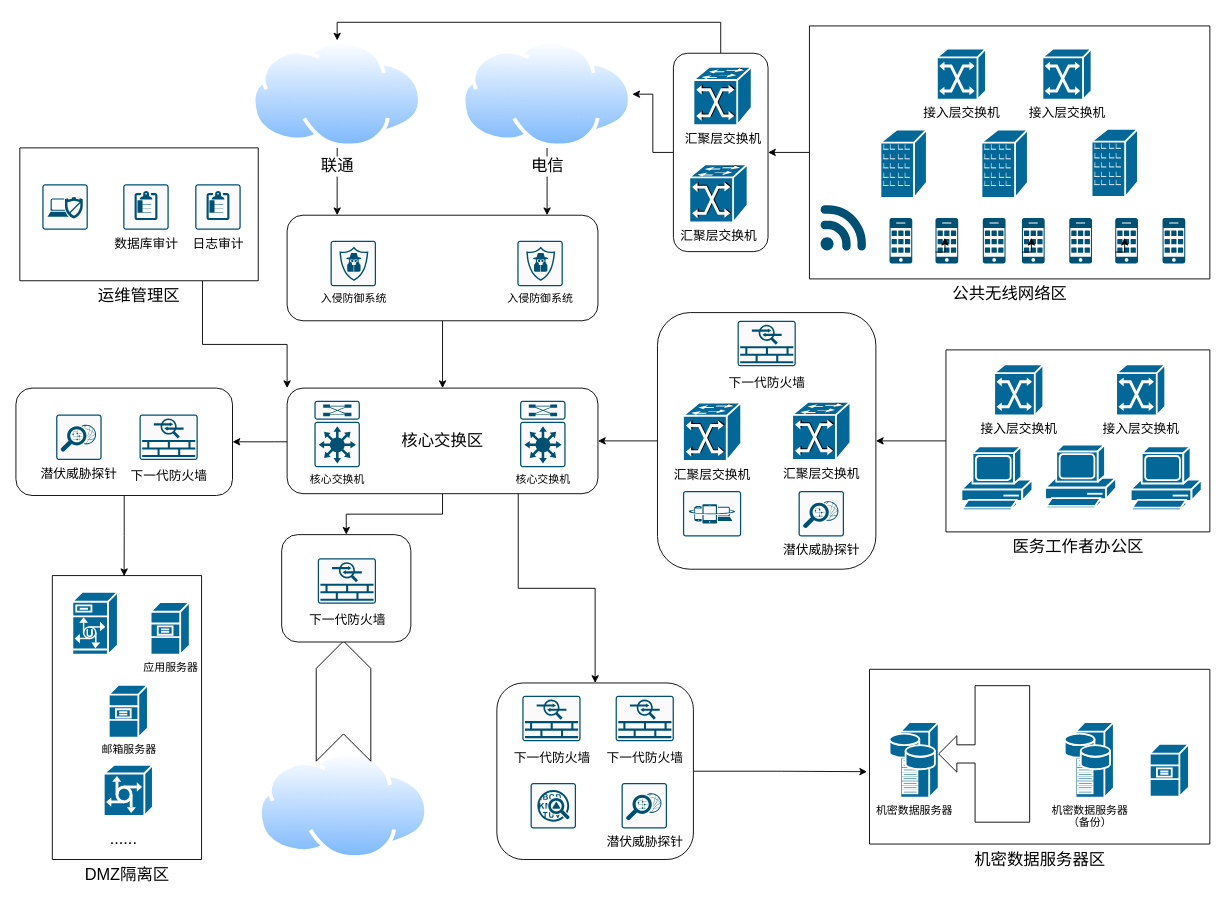
The diagram is 1226 pixels wide and 905 high, and some of its shapes have lost their labels. Each missing label, with the centre of its shape:
AC认证: [842,227]
HIS CIS PACS LIS RIS EMR ...: [984,753]
Web服务器: [94,623]
上网行为管理: [711,513]
专线: [343,700]
其他对外业务服务器: [127,789]
安全感知平台: [64,206]
数据库服务器: [1168,770]
漏洞扫描系统: [553,805]
银行、医保等相关组织: [343,805]
